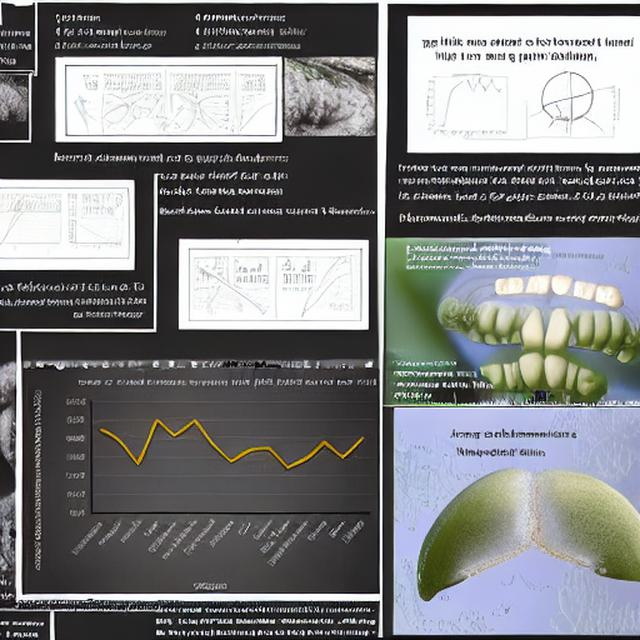Graph: (28, 374, 380, 594), (418, 68, 520, 138), (64, 216, 122, 250)
